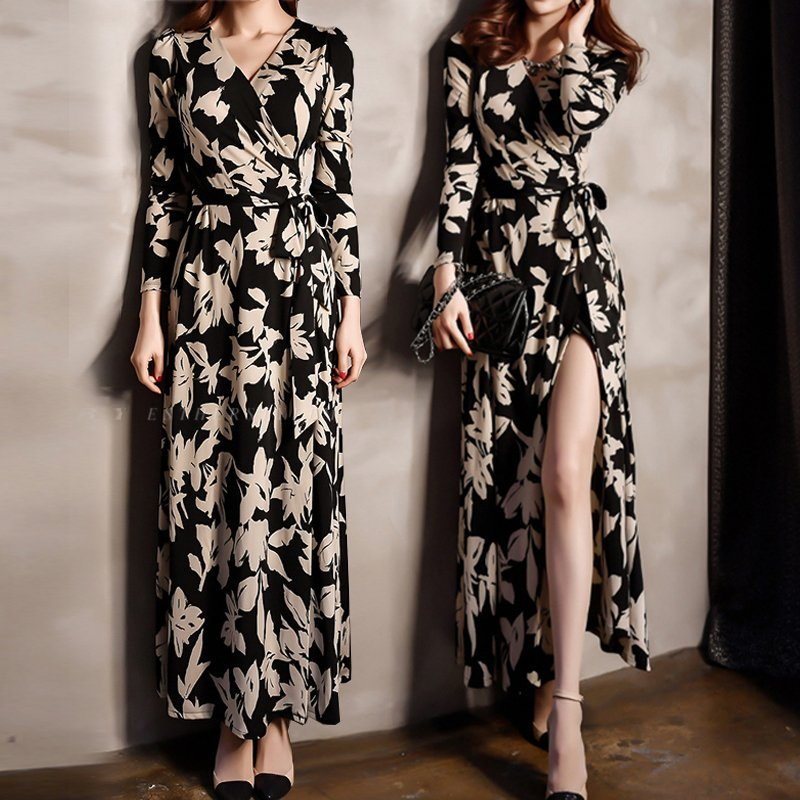C_dress: (106, 26, 370, 729), (422, 32, 673, 714)
